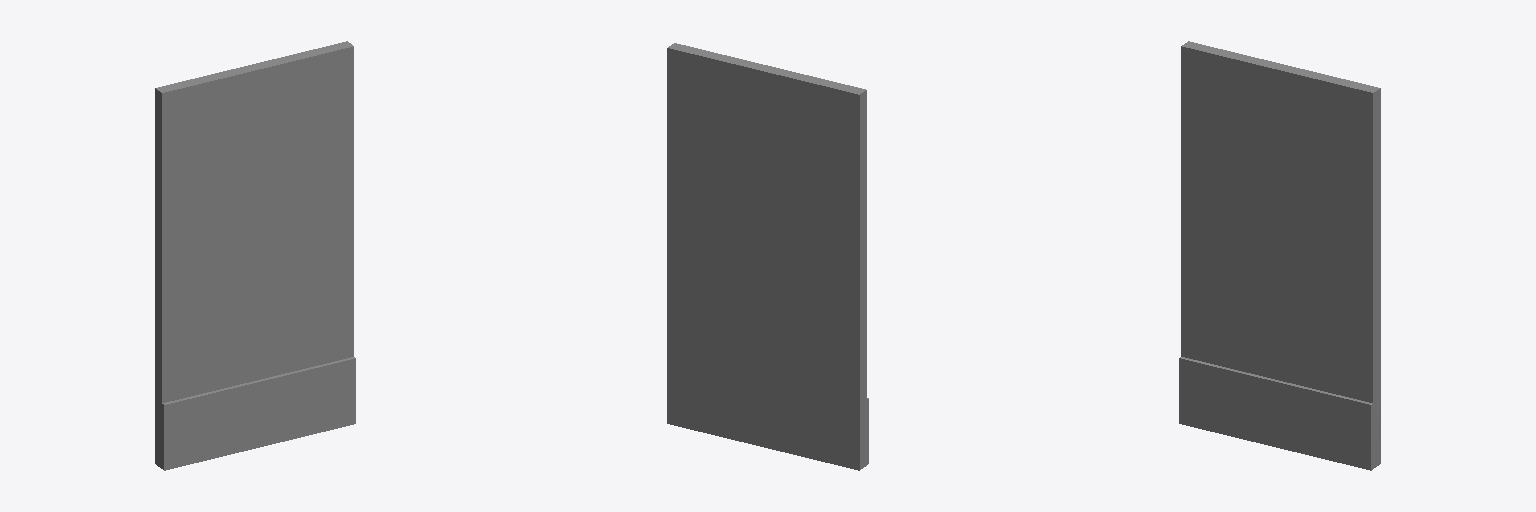
The model's file is Wall_DoubleDoor_Door.obj.
3 renders of one model, left to right at view 1: azimuth 30°, elevation 25°; view 2: azimuth 150°, elevation 25°; view 3: azimuth 330°, elevation 25°, orthographic.
Visible parts, largest first — view 1: DoorL DoubleDoors WallDoubleDoors_DoorL DoubleDoors WallDoubleDo; view 2: DoorL DoubleDoors WallDoubleDoors_DoorL DoubleDoors WallDoubleDo; view 3: DoorL DoubleDoors WallDoubleDoors_DoorL DoubleDoors WallDoubleDo.
Boxes of the visible parts, x1=… form: DoorL DoubleDoors WallDoubleDoors_DoorL DoubleDoors WallDoubleDo: x1=155, y1=41, x2=355, y2=470; DoorL DoubleDoors WallDoubleDoors_DoorL DoubleDoors WallDoubleDo: x1=667, y1=43, x2=868, y2=470; DoorL DoubleDoors WallDoubleDoors_DoorL DoubleDoors WallDoubleDo: x1=1179, y1=41, x2=1380, y2=470.
Bounding box in the file's own units: 2.86 × 5.34 × 0.2351.